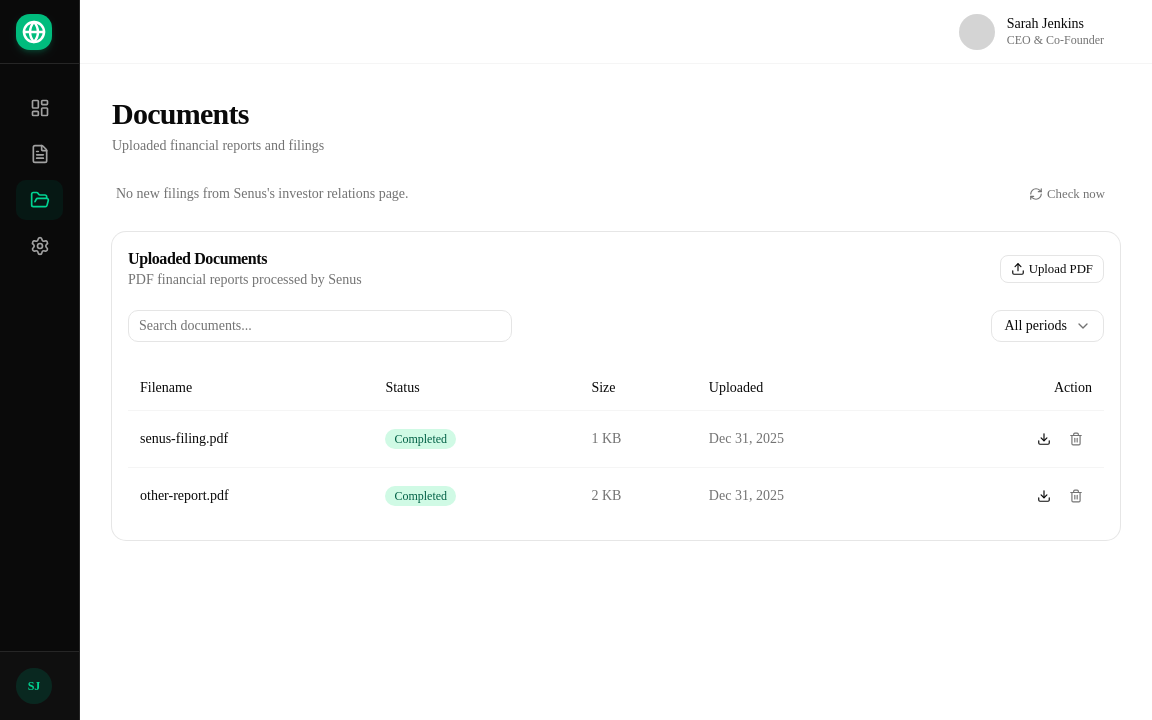
Test: DocumentsPage › filters the list by filename search
Expected: the text "senus-filing.pdf" is shown, x1=128 y1=410 x2=373 y2=467
Type "senus" into the field labelled "Search documents".
click(320, 326); type("senus")  # box x1=128 y1=310 x2=512 y2=342
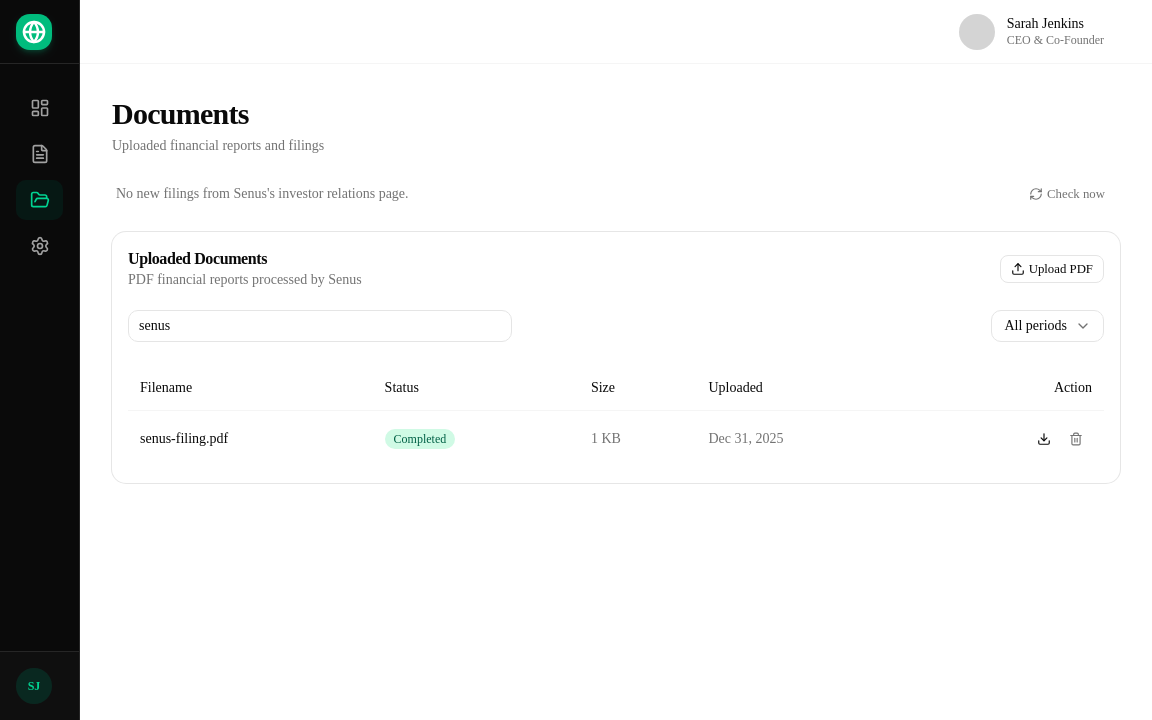
Expected: the text "senus-filing.pdf" is shown, x1=128 y1=410 x2=373 y2=466
Result: the text "other-report.pdf" is gone
